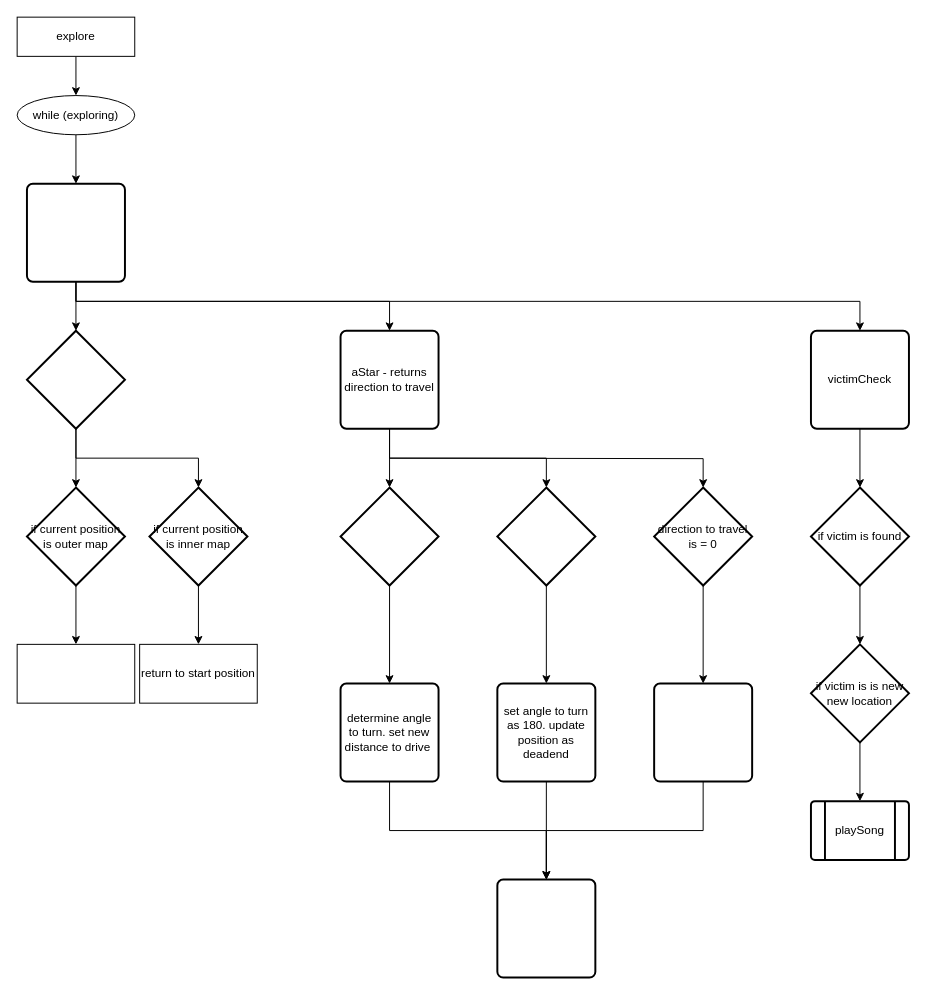
The diagram is 927 pixels wide and 996 high, and some of its shapes have lost their labels. The box of each missing label's shape, as (x1, y1, x2, y2) in pixels:
direction to travel is < 0: (496, 486, 596, 586)
direction to travel is > 0: (339, 486, 439, 586)
driveStraight: (496, 878, 596, 978)
if (2 victims are found): (25, 329, 125, 429)
scanLocal: (25, 182, 125, 282)
set temporary goal to bottom of cliff before returning to start: (16, 643, 135, 703)
update goal: (653, 682, 753, 782)
